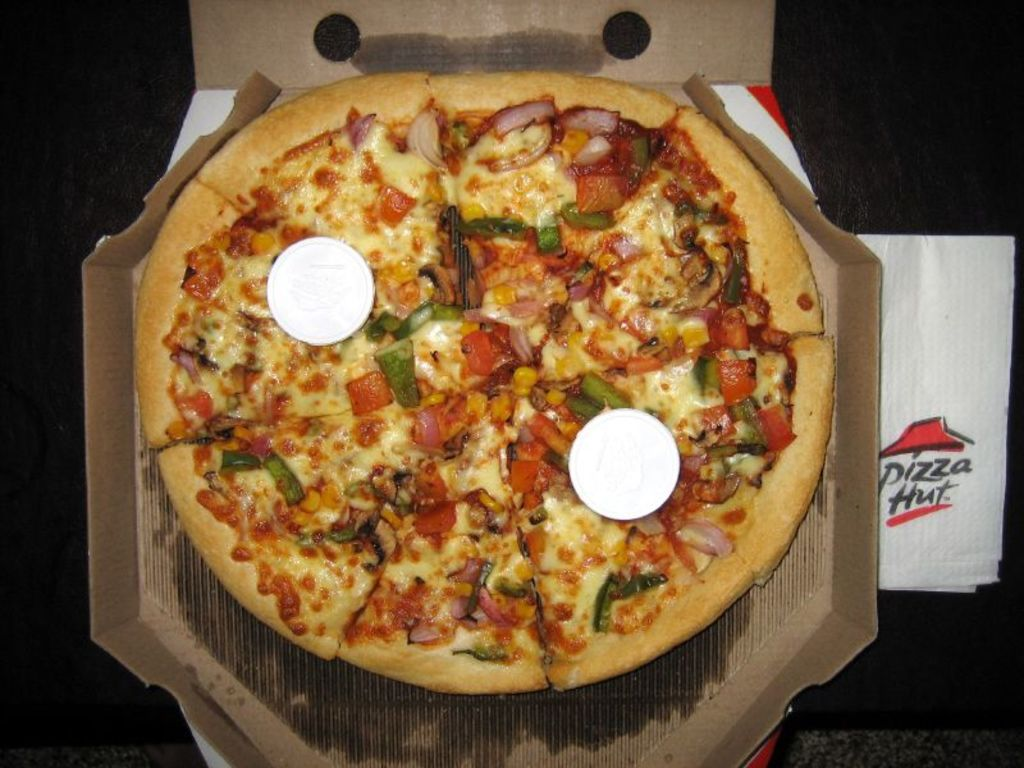Pizza: (136, 46, 837, 716)
